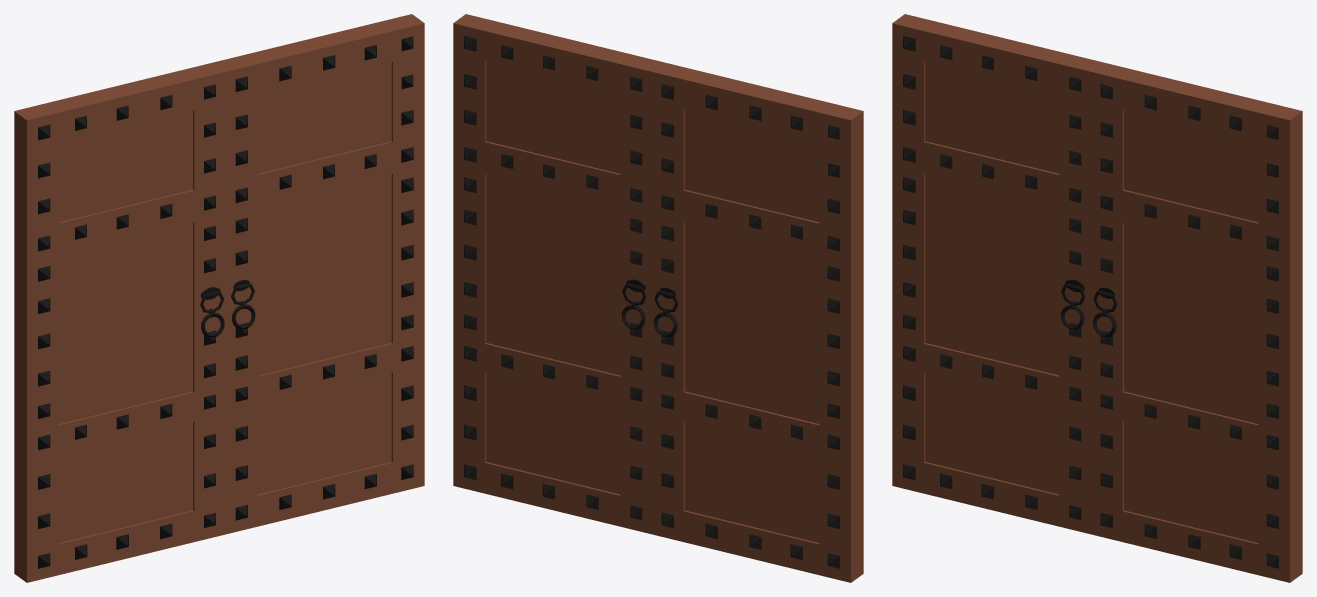
File: edgyDoor_fbx.fbx
3 views of the same model, side by side, from view 1: azimuth 30°, elevation 25°; view 2: azimuth 150°, elevation 25°; view 3: azimuth 330°, elevation 25° (orthographic).
Parts seen in each view (by area): view 1: doorBase_geo (×2); view 2: doorBase_geo (×2); view 3: doorBase_geo (×2).
Part boxes in pixels (<box>): doorBase_geo (×2): <box>14,14,424,582</box>; doorBase_geo (×2): <box>453,14,863,582</box>; doorBase_geo (×2): <box>892,14,1302,582</box>.
Bounding box in the file's own units: 180 × 200 × 17.98.
